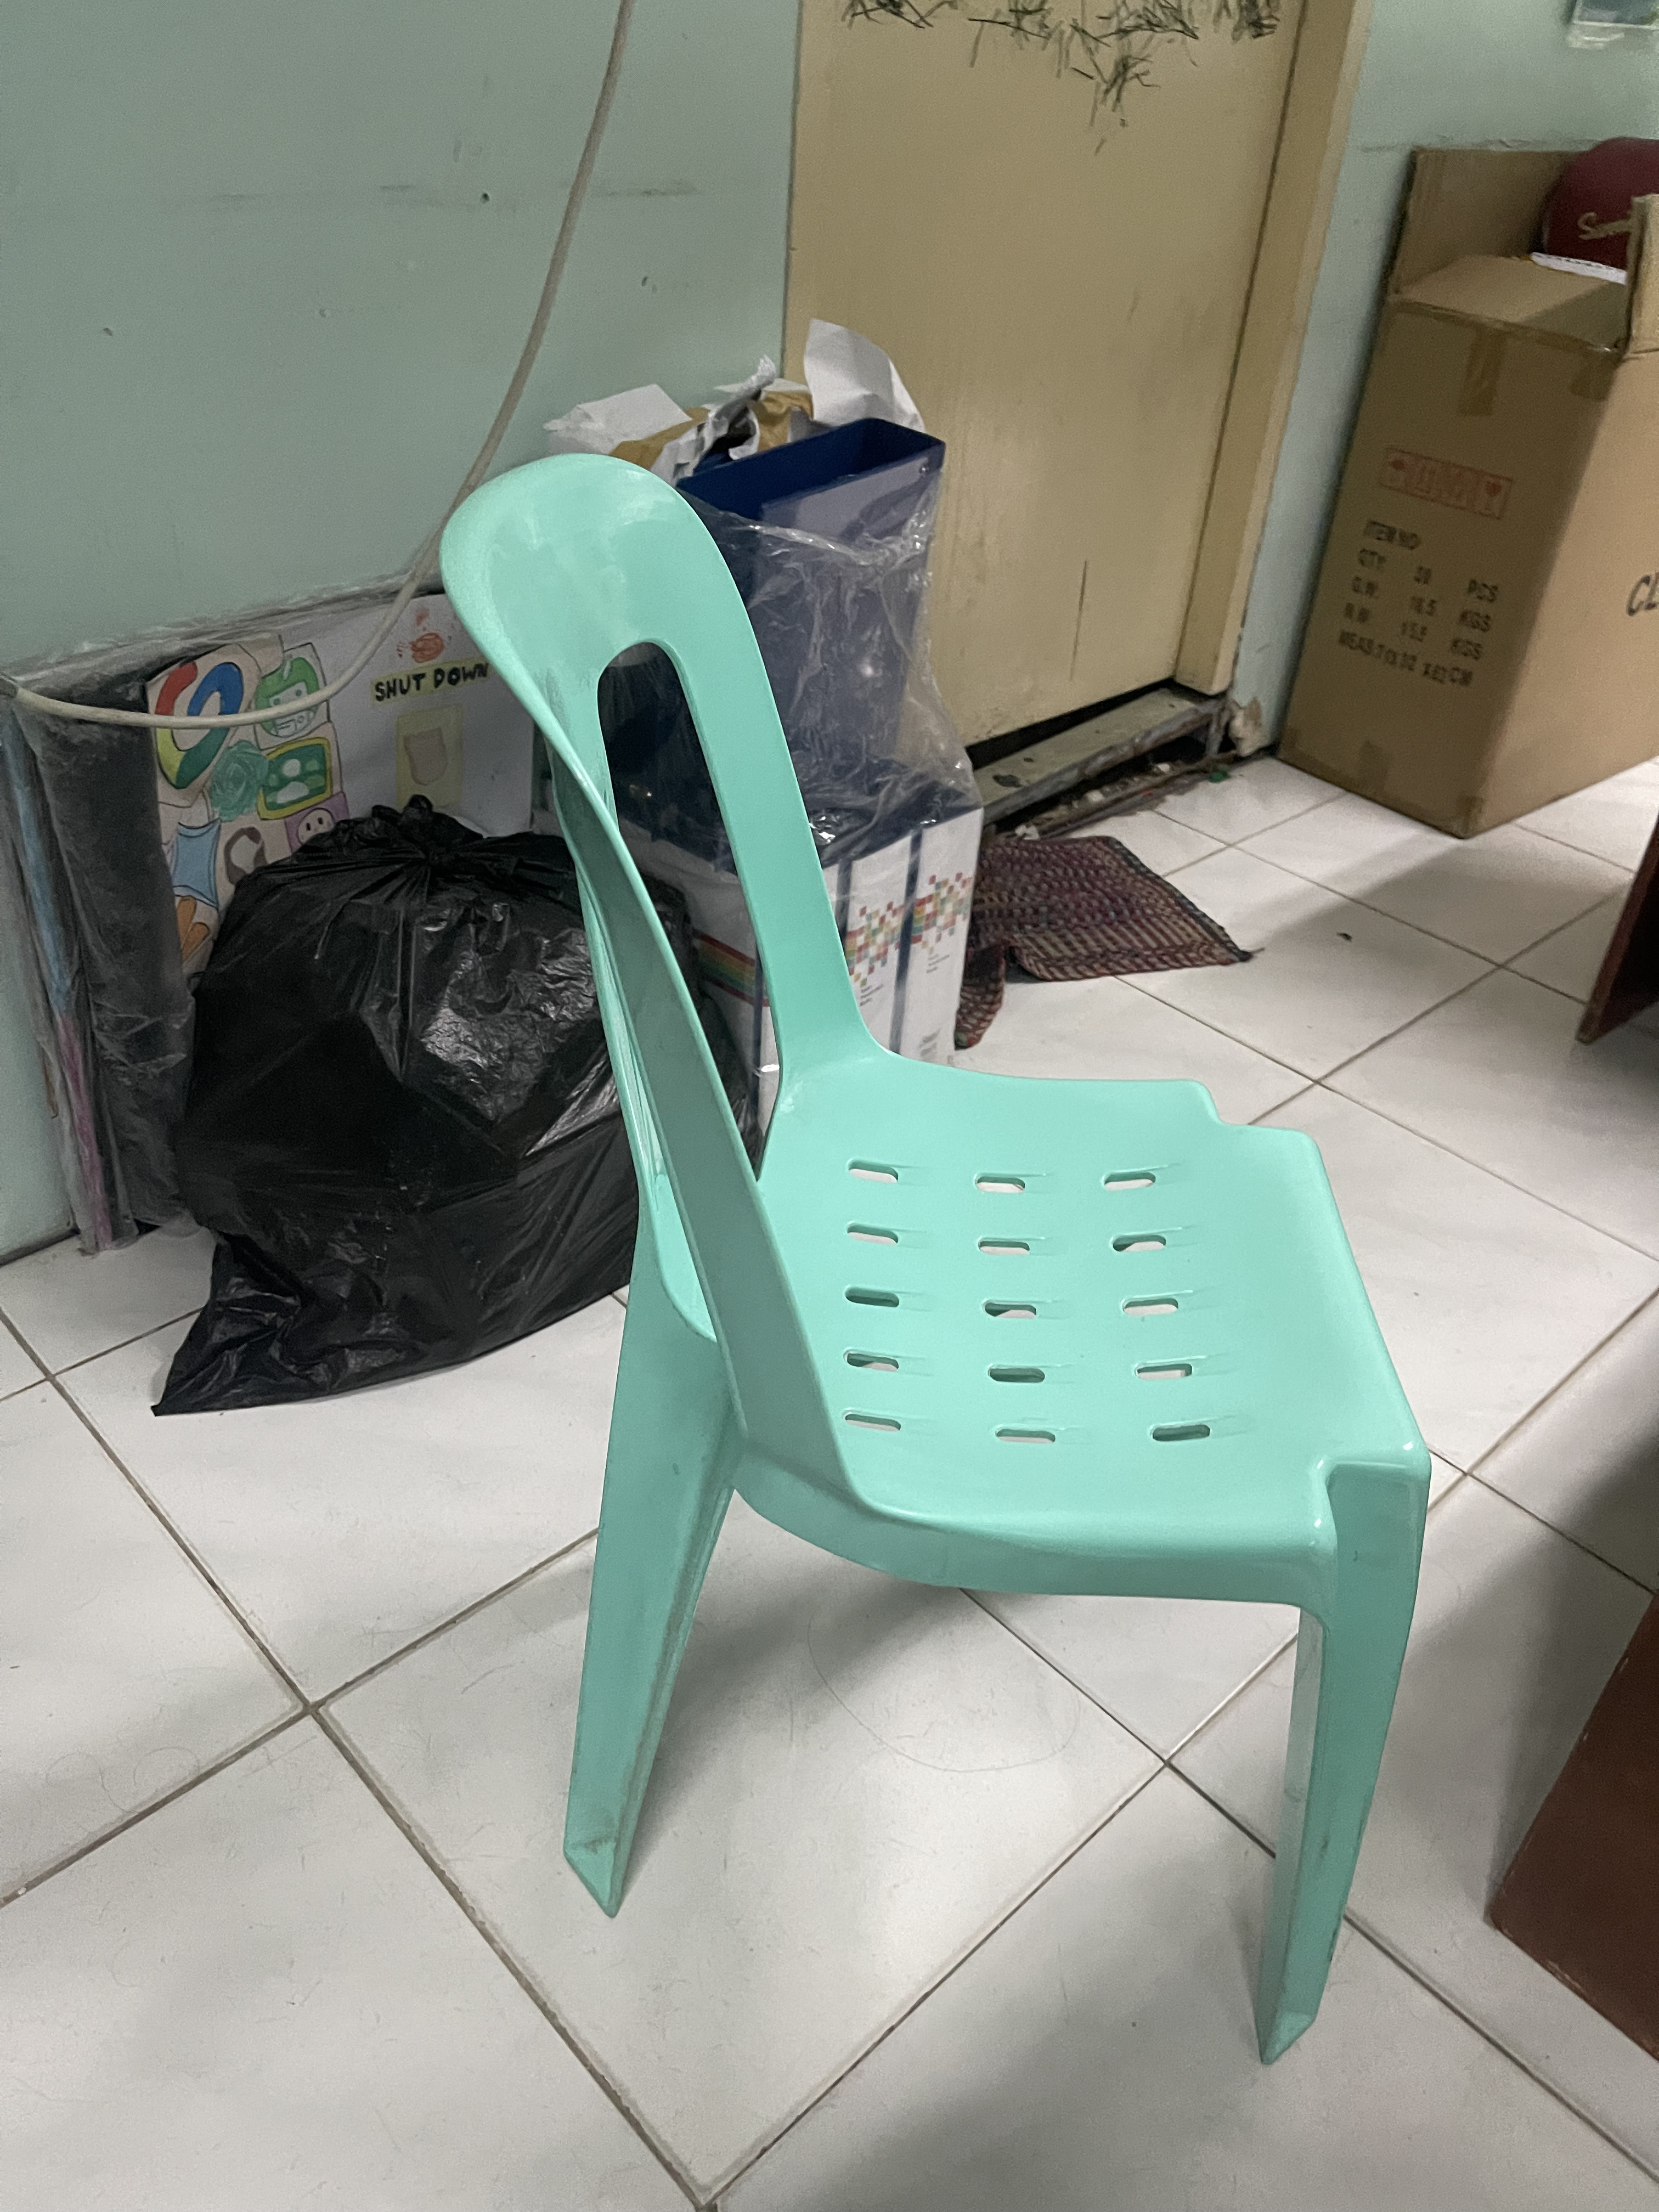chair2: (436, 442, 1438, 2069)
